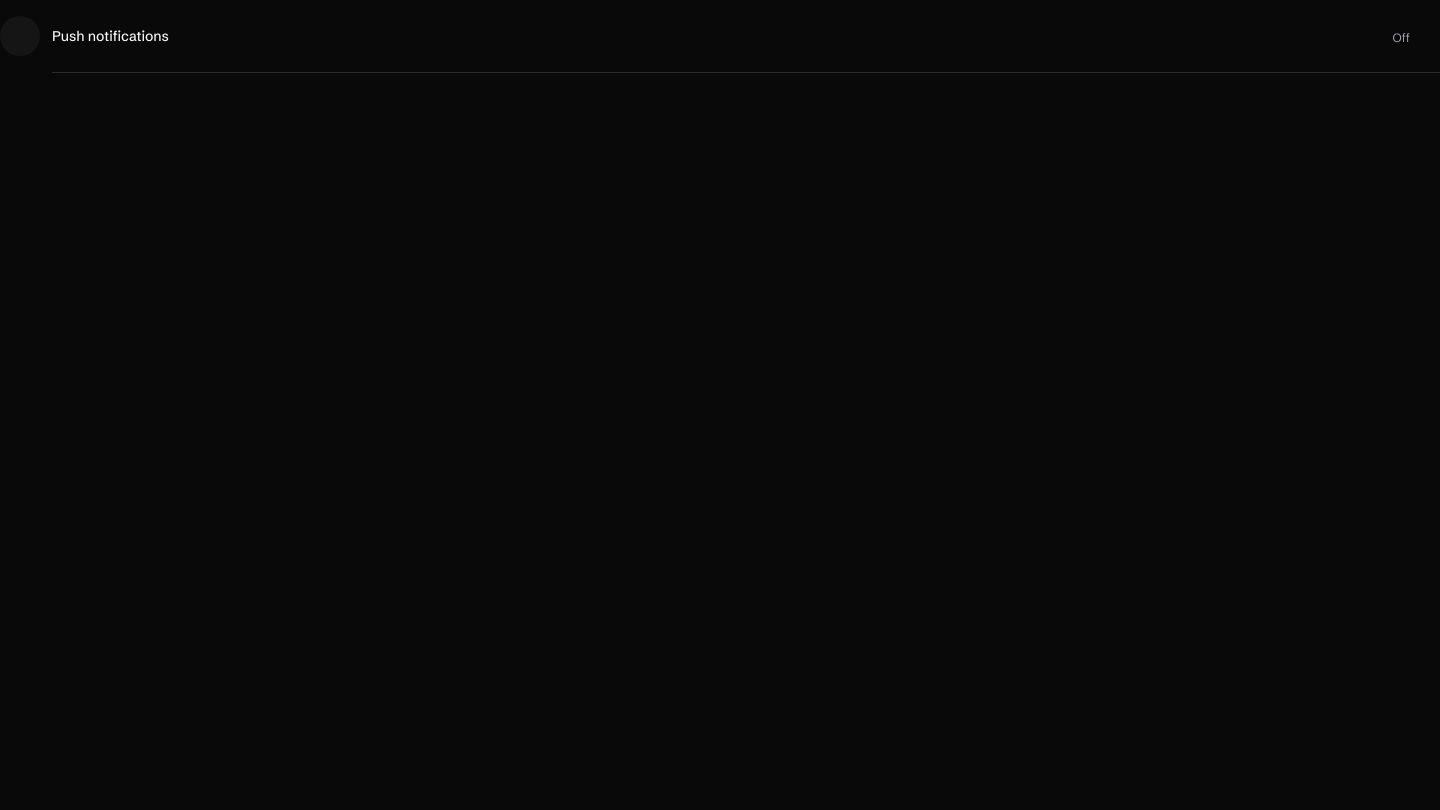
PushNotificationsRow › asks from the tap, subscribes with the server's key and saves toJSON()
The width and height of the screenshot is (1440, 810).
Step 1. Click the button "Push notifications Off" → (20, 36), box [0,0,1439,72]
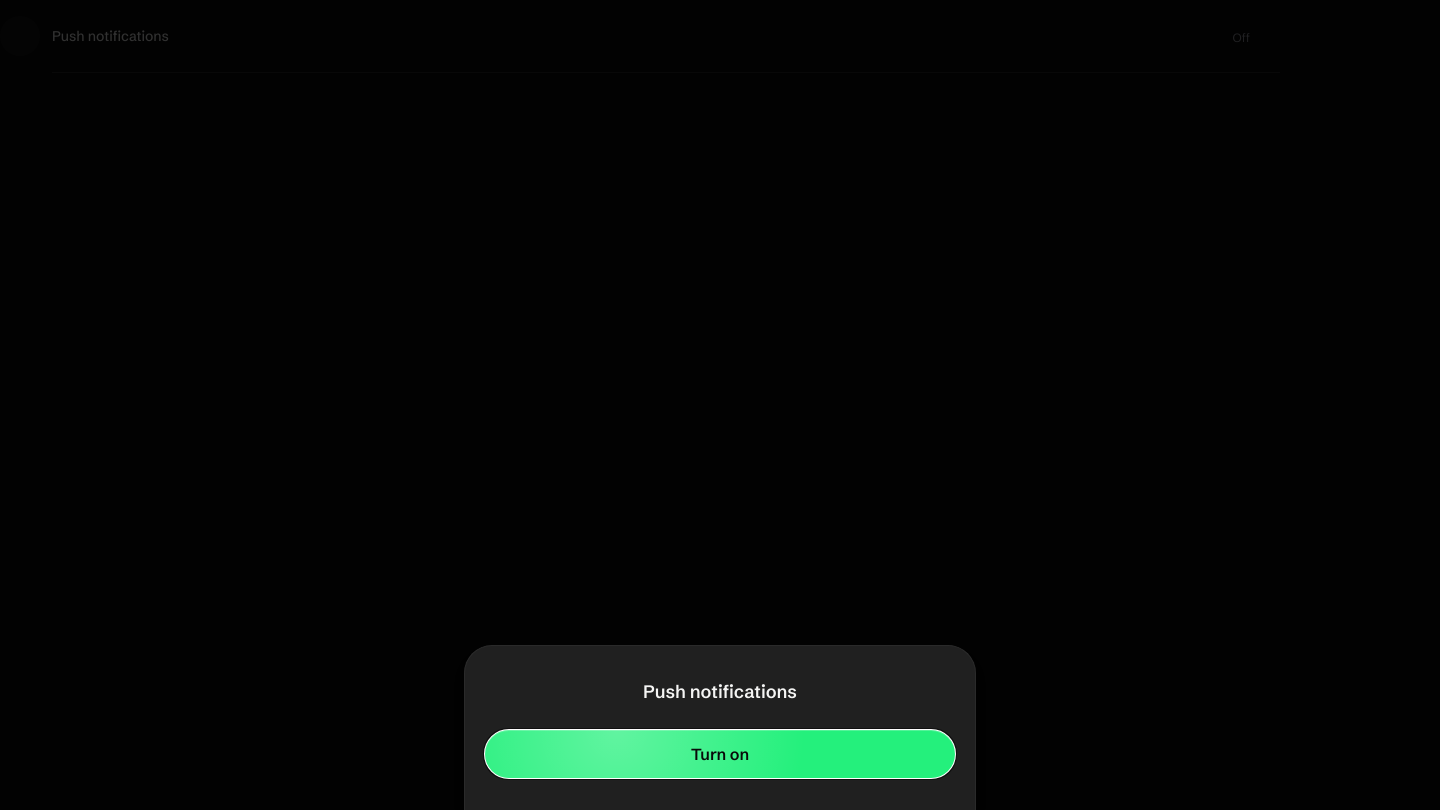
Step 2. Click the button "Turn on" → (720, 754), box [485,730,955,778]
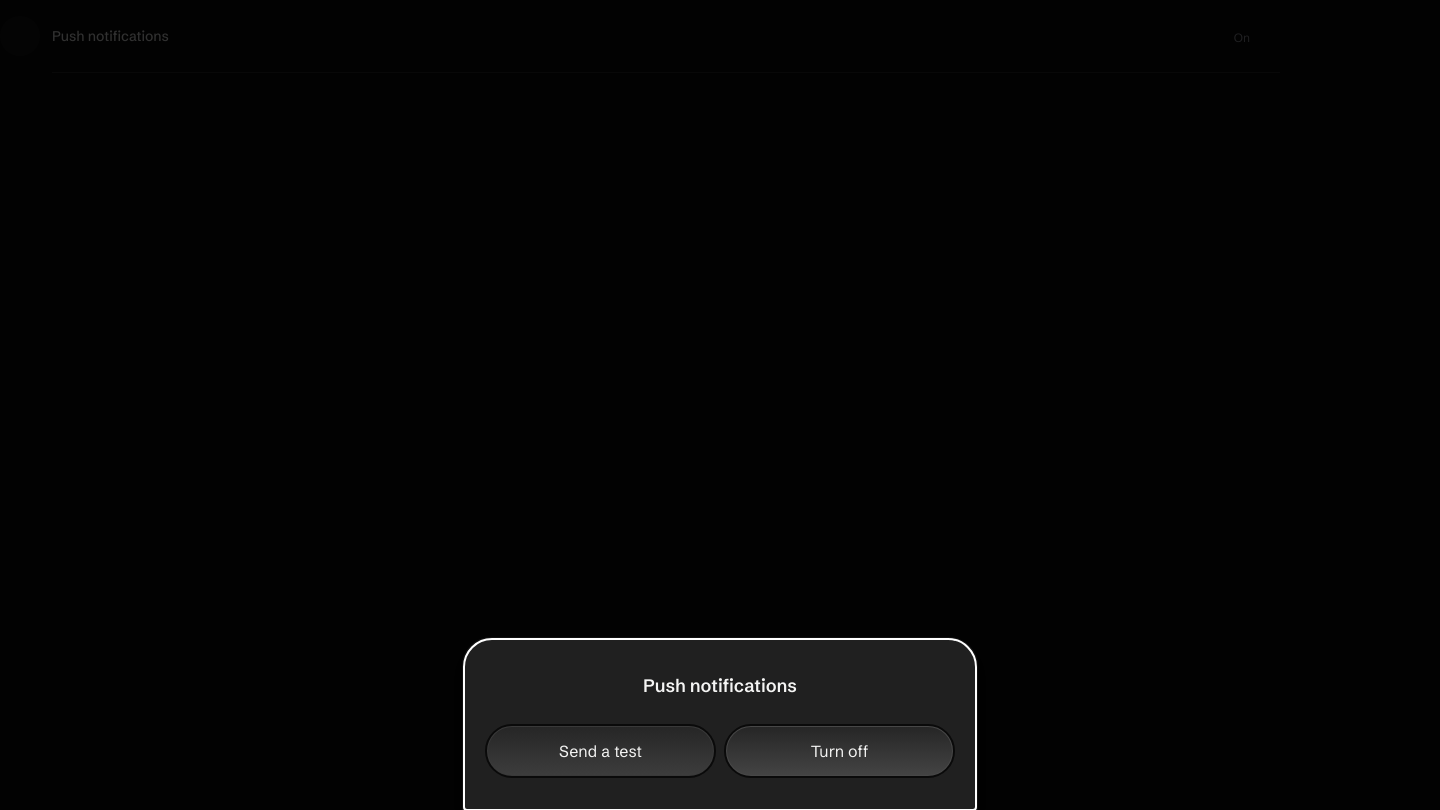
Expected: the button "Turn off" is shown, [724,724,955,778]
